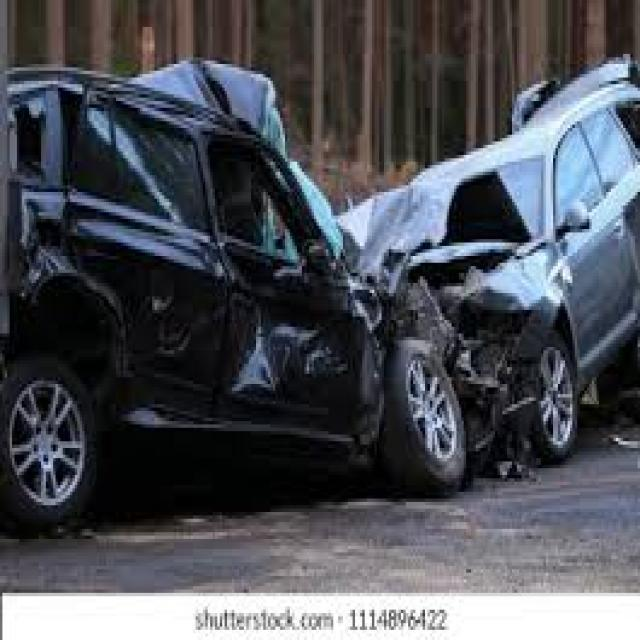accident: (0, 74, 634, 587)
